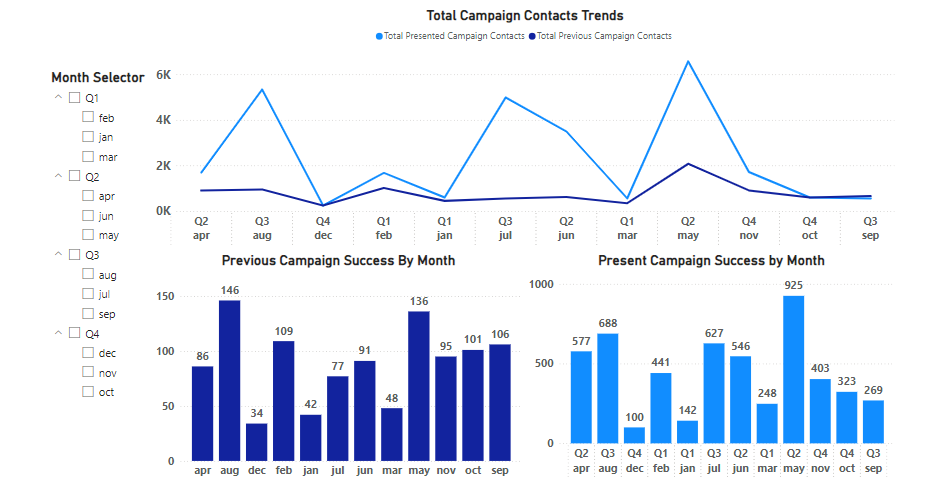

The page's visual inventory and layout, read from the dashboard file:
{"tool":"powerbi","page":{"name":"Detailed Campaign Performance","canvas":[1280,720],"ordinal":1},"visuals":[{"type":"lineChart","title":"Total Campaign Contacts Trends","fields":{"Category":["bank.month","bank.contact_month_group"],"Y":["bank.total_campaign_contacts","bank.total_previous_contacts"]},"box":[159.5,13.2,1103.4,362.9],"z":0},{"type":"columnChart","title":"Present Campaign Success by Month","fields":{"Y":["bank.success_deposit"],"Category":["bank.month","bank.contact_month_group"]},"box":[711.2,376.1,551.7,343.9],"z":1},{"type":"columnChart","title":"Previous Campaign Success By Month","fields":{"Category":["bank.month","bank.contact_month_group"],"Y":["bank.success_campaign"]},"box":[159.5,376.1,551.7,343.9],"z":2},{"type":"slicer","title":"Month Selector","fields":{"Values":["bank.contact_month_group","bank.month"]},"box":[0,105.4,159.5,507.8],"z":3}]}

Visuals, with their boxes on the page's 1280x720 design canvas (x1, y1, x2, y2). These are canvas units, not pixel positions in the 943x481 screenshot, which may show the page scaled, cropped or inside an application window:
"Total Campaign Contacts Trends" lineChart: 160, 13, 1263, 376
"Present Campaign Success by Month" columnChart: 711, 376, 1263, 720
"Previous Campaign Success By Month" columnChart: 160, 376, 711, 720
"Month Selector" slicer: 0, 105, 160, 613
